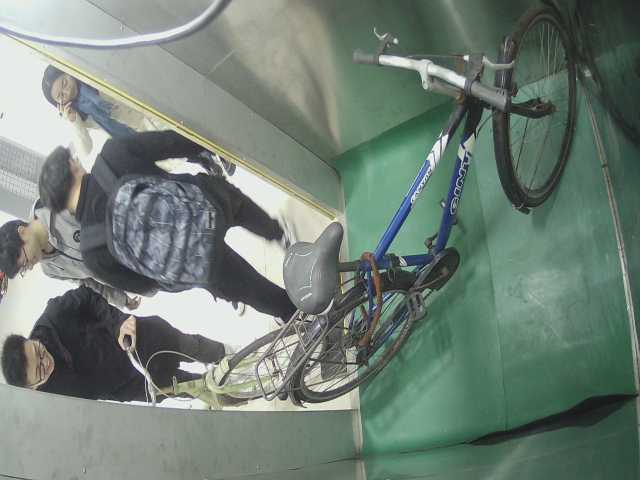bag: (103, 164, 245, 298)
bicycle: (253, 2, 583, 411)
person: (29, 141, 297, 297), (3, 295, 255, 392), (1, 201, 92, 290)
